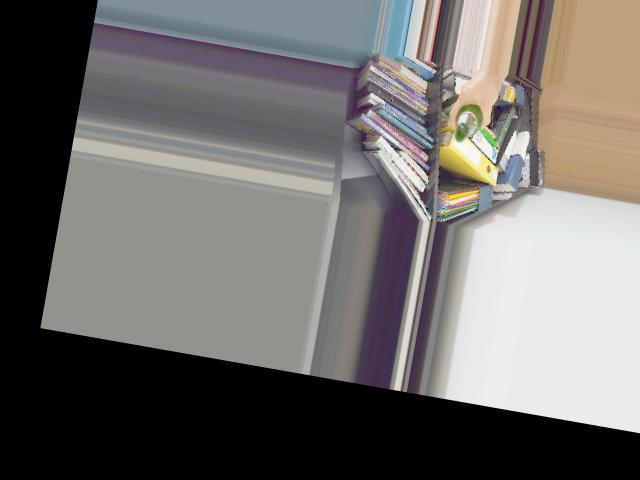beer: (453, 101, 485, 144)
